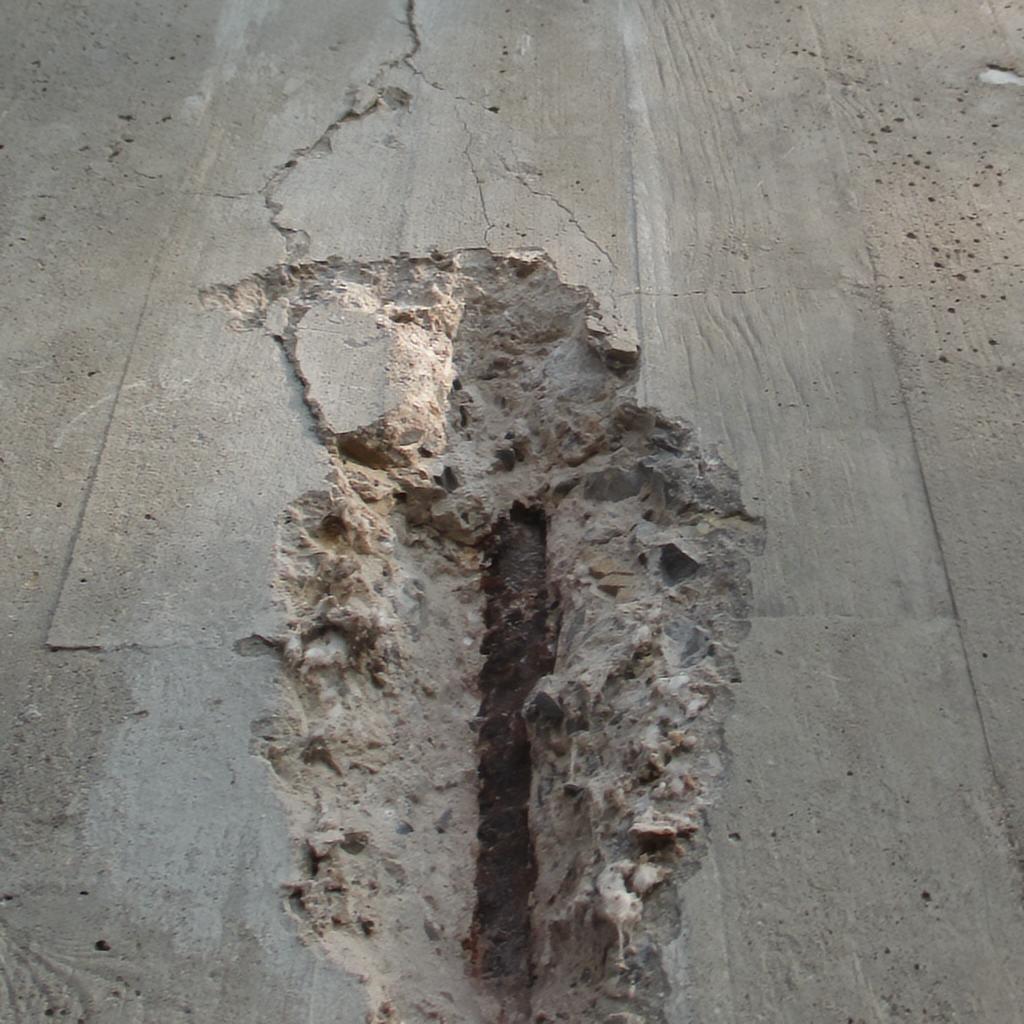exposed_rebar: (470, 504, 556, 989)
spalling: (206, 250, 760, 1024)
